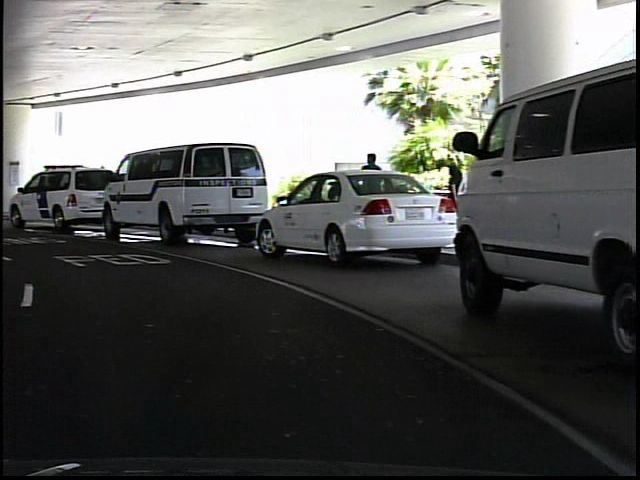person: (355, 147, 387, 236)
